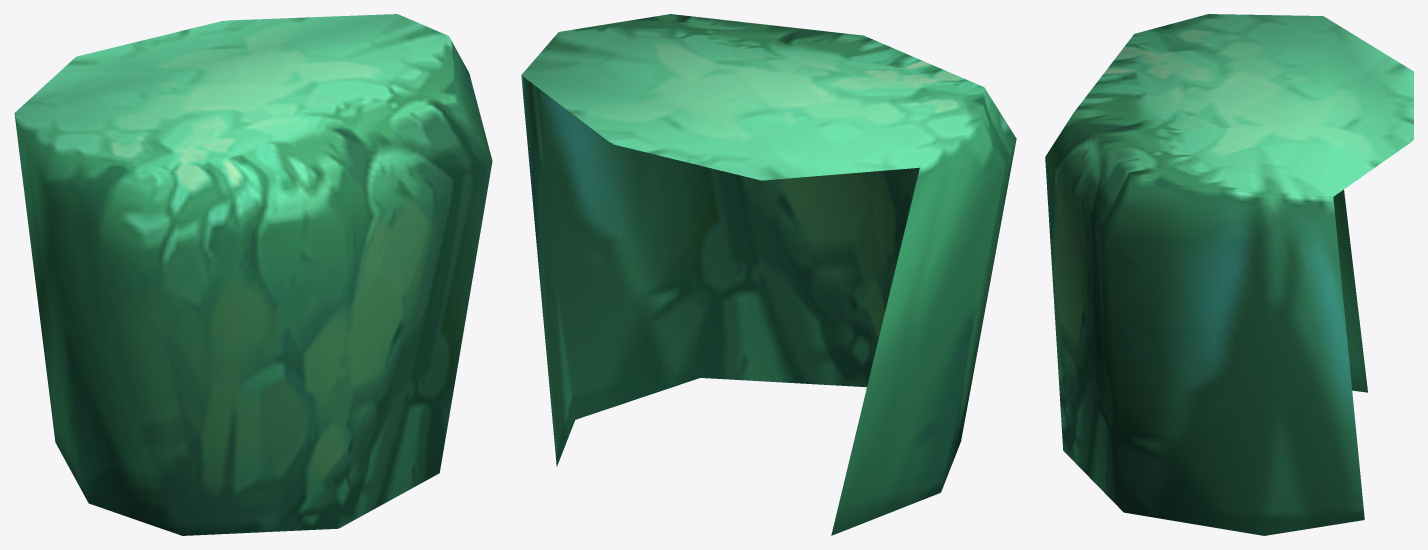
The model's file is Chapter2Scene1Model9.FBX.
3 views of the same model, side by side, from view 1: azimuth 30°, elevation 25°; view 2: azimuth 150°, elevation 25°; view 3: azimuth 270°, elevation 25° (orthographic). The views are drawn at different scales.
Visible parts, largest first — view 1: Chapter2Scene1Model9; view 2: Chapter2Scene1Model9; view 3: Chapter2Scene1Model9.
Boxes of the visible parts, x1,y1,x2,y2 form: Chapter2Scene1Model9: [14, 14, 492, 535]; Chapter2Scene1Model9: [521, 14, 1016, 535]; Chapter2Scene1Model9: [1045, 14, 1413, 535].
Bounding box in the file's own units: 111 × 84.57 × 89.9.
